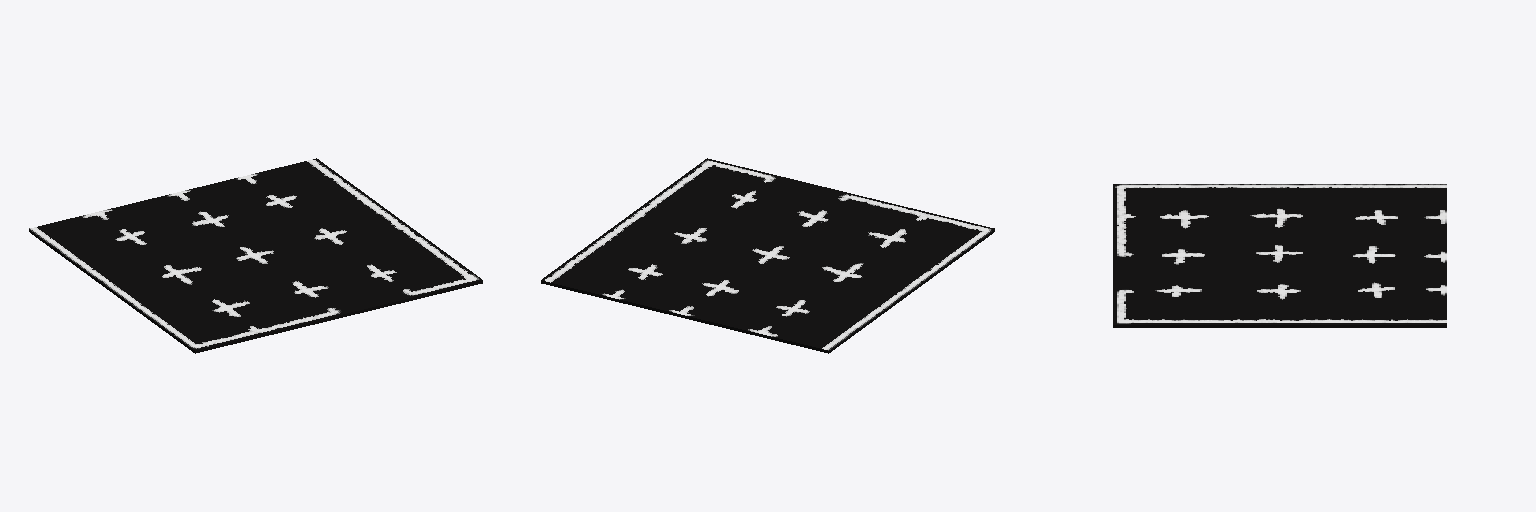
3 renders of one model, left to right at view 1: azimuth 30°, elevation 25°; view 2: azimuth 150°, elevation 25°; view 3: azimuth 270°, elevation 25°, orthographic.
Visible parts, largest first — view 1: Maze_Floor; view 2: Maze_Floor; view 3: Maze_Floor.
Part boxes in pixels (bbox=[...]): Maze_Floor: bbox=[29, 158, 482, 353]; Maze_Floor: bbox=[541, 158, 994, 353]; Maze_Floor: bbox=[1113, 184, 1446, 327].
Size of the model in its own units: 5 by 0.05 by 5.
Materials: 1 (1 with a texture image).